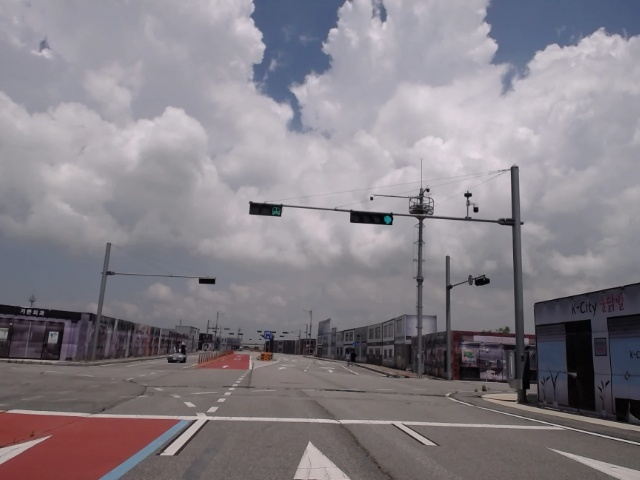straight_green_4: (350, 211, 394, 225)
